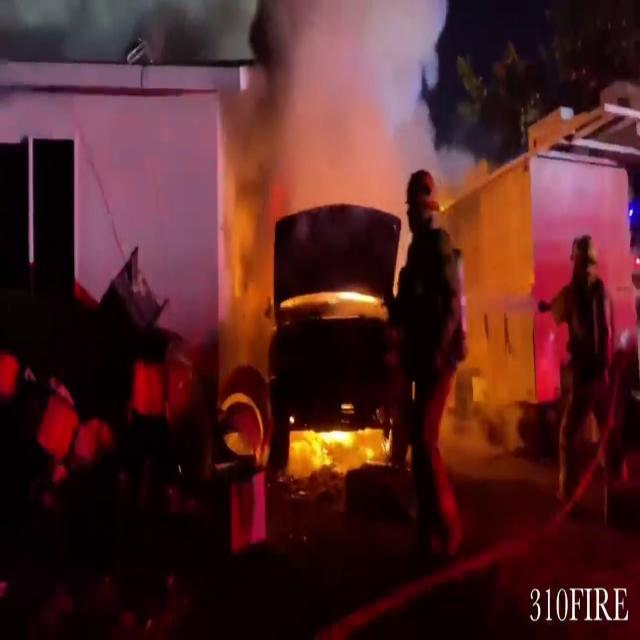Smoke: (216, 0, 480, 196)
